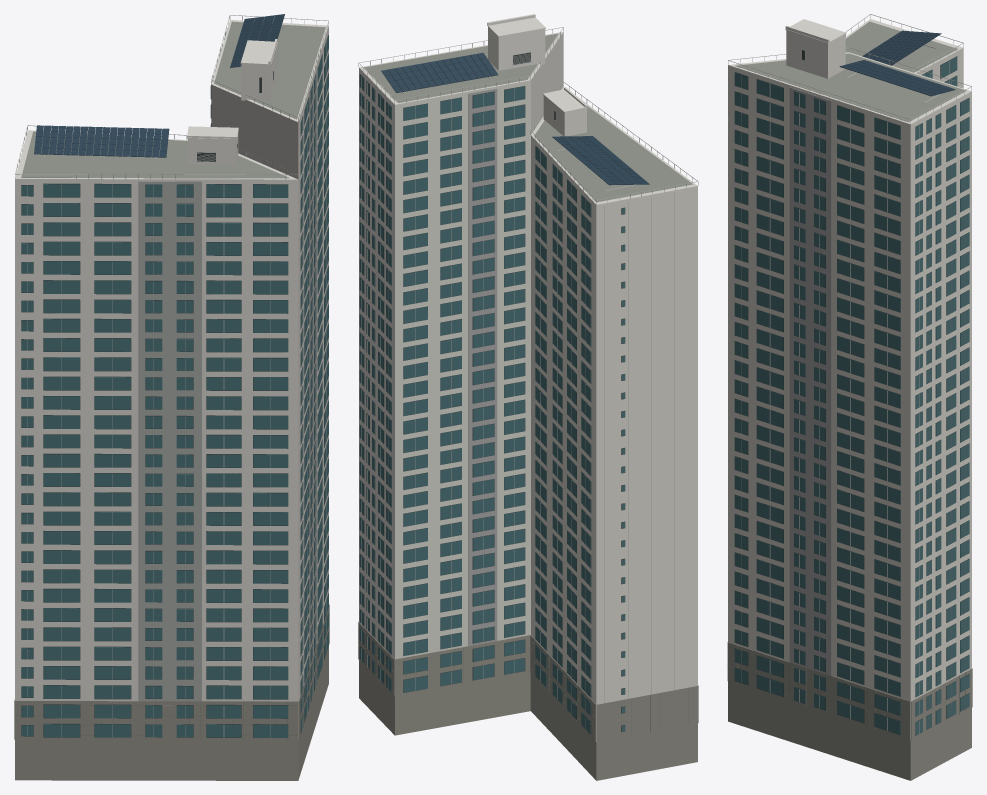
Rendered from bespoke-maple-xi-209-corrected.glb.
3 views of the same model, side by side, from view 1: azimuth 30°, elevation 25°; view 2: azimuth 150°, elevation 25°; view 3: azimuth 270°, elevation 25° (orthographic). The views are drawn at different scales.
Parts seen in each view (by area): view 1: 209_e0_window_glass, 209_wing_0_observed_massing, 209_e0_blank_wall_joints, 209_unverified_solid_ground_mass, 209_e0_individually_sized_reveals, 209_wing_0_service_roof, 209_wing_0_roof_rail, 209_individual_roof_panel_array_0; view 2: 209_wing_0_observed_massing, 209_e0_window_glass, 209_unverified_solid_ground_mass, 209_e0_individually_sized_reveals, 209_e0_blank_wall_joints, 209_wing_0_service_roof, 209_wing_0_roof_rail, 209_individual_roof_panel_array_0, 209_e0_stone_vertical_joints; view 3: 209_e0_window_glass, 209_wing_0_observed_massing, 209_unverified_solid_ground_mass, 209_e0_blank_wall_joints, 209_e0_individually_sized_reveals, 209_wing_0_service_roof, 209_wing_0_roof_rail, 209_individual_roof_panel_array_0, 209_e0_stone_vertical_joints.
Part boxes in pixels (x1,y1,x2,y2): 209_e0_window_glass: [21, 32, 328, 737]; 209_wing_0_observed_massing: [15, 19, 328, 739]; 209_e0_blank_wall_joints: [138, 57, 316, 701]; 209_unverified_solid_ground_mass: [14, 604, 329, 780]; 209_e0_individually_sized_reveals: [21, 29, 328, 737]; 209_wing_0_service_roof: [21, 21, 325, 178]; 209_wing_0_roof_rail: [15, 15, 328, 737]; 209_individual_roof_panel_array_0: [34, 14, 284, 157]; 209_wing_0_observed_massing: [359, 14, 697, 741]; 209_e0_window_glass: [359, 74, 625, 734]; 209_unverified_solid_ground_mass: [358, 622, 698, 780]; 209_e0_individually_sized_reveals: [360, 52, 625, 734]; 209_e0_blank_wall_joints: [468, 52, 674, 702]; 209_wing_0_service_roof: [364, 33, 692, 201]; 209_wing_0_roof_rail: [358, 27, 698, 729]; 209_individual_roof_panel_array_0: [381, 52, 649, 185]; 209_e0_stone_vertical_joints: [358, 632, 697, 737]; 209_e0_window_glass: [734, 57, 969, 735]; 209_wing_0_observed_massing: [728, 19, 971, 739]; 209_unverified_solid_ground_mass: [727, 642, 972, 780]; 209_e0_blank_wall_joints: [789, 49, 831, 675]; 209_e0_individually_sized_reveals: [734, 50, 969, 735]; 209_wing_0_service_roof: [735, 21, 966, 122]; 209_wing_0_roof_rail: [728, 14, 971, 733]; 209_individual_roof_panel_array_0: [839, 30, 955, 96]; 209_e0_stone_vertical_joints: [728, 646, 972, 735].
Bounding box in the file's own units: 56.72 × 113 × 36.06.
